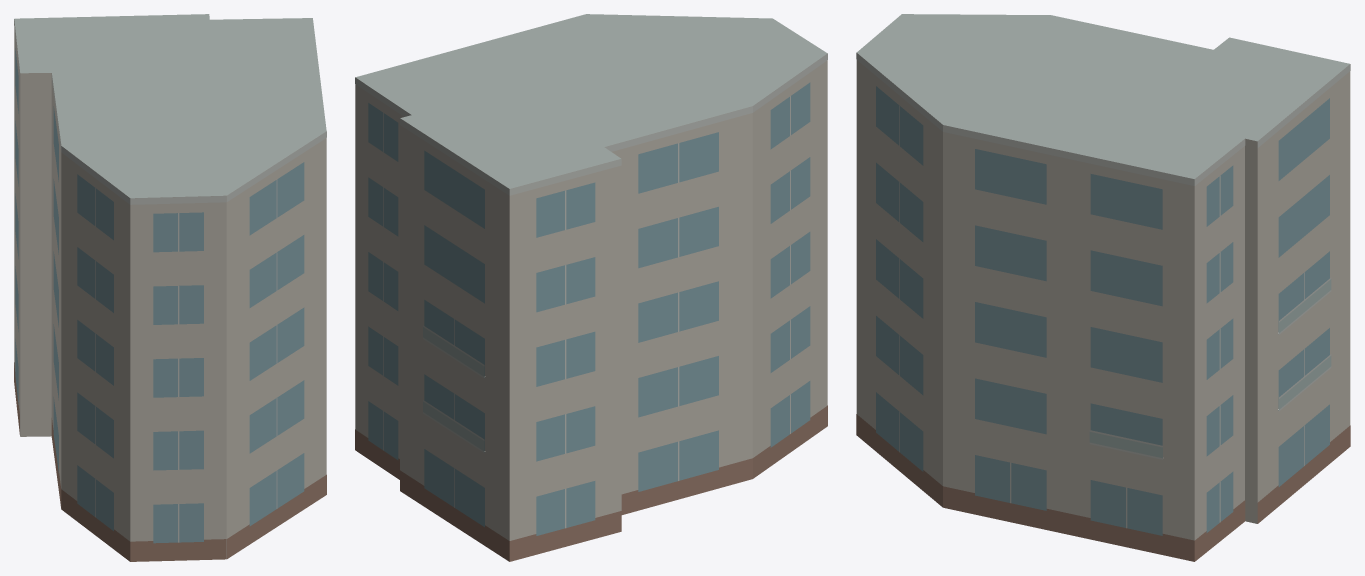
File: survey-upis-32551963.glb
3 views of the same model, side by side, from view 1: azimuth 30°, elevation 25°; view 2: azimuth 150°, elevation 25°; view 3: azimuth 270°, elevation 25° (orthographic). The views are drawn at different scales.
Parts seen in each view (by area): view 1: survey-upis-32551963.tmp; view 2: survey-upis-32551963.tmp; view 3: survey-upis-32551963.tmp.
Part boxes in pixels (<box>): survey-upis-32551963.tmp: <box>14,14,326,561</box>; survey-upis-32551963.tmp: <box>355,14,827,561</box>; survey-upis-32551963.tmp: <box>856,14,1350,561</box>.
Bounding box in the file's own units: 12.41 × 13.4 × 15.68.
